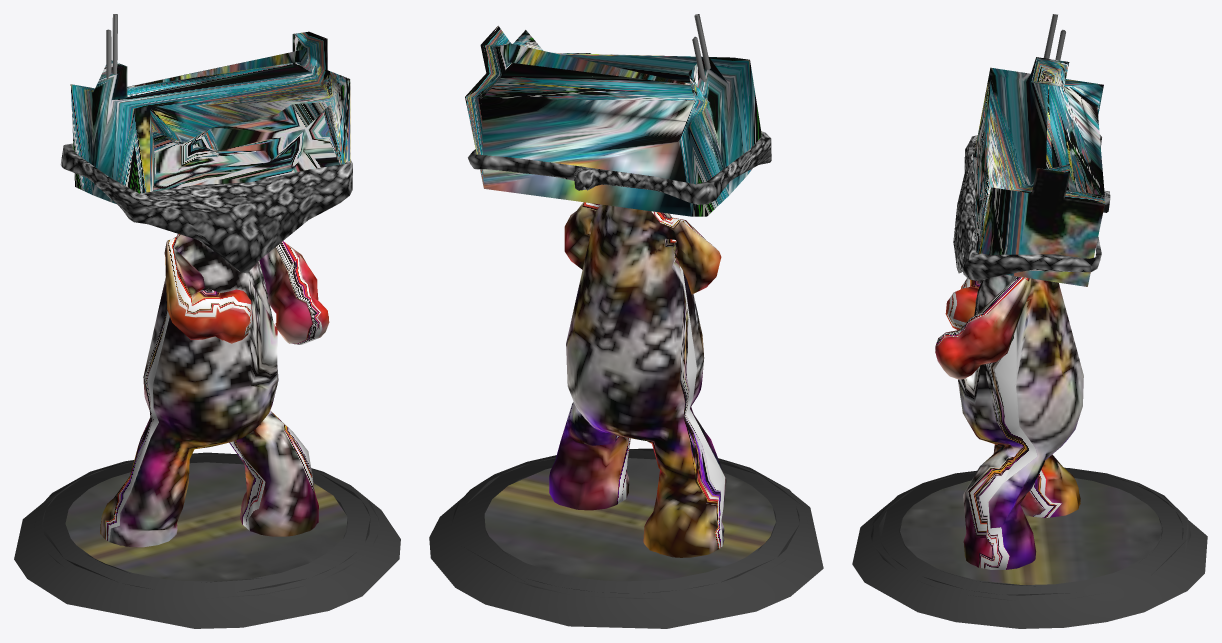
3 views of the same model, side by side, from view 1: azimuth 30°, elevation 25°; view 2: azimuth 150°, elevation 25°; view 3: azimuth 270°, elevation 25° (orthographic). The views are drawn at different scales.
Bounding box in the file's own units: 1.44 × 2.22 × 1.42.
Materials: 6 (4 with a texture image).
